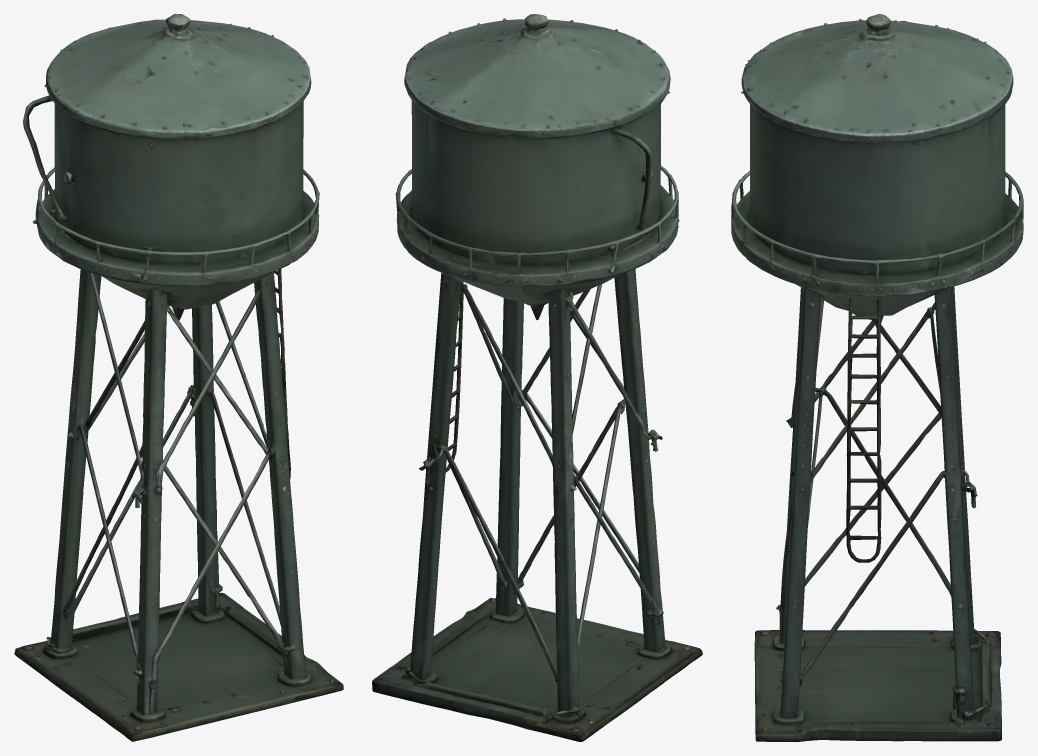
Rendered from water-tower.glb.
3 renders of one model, left to right at view 1: azimuth 30°, elevation 25°; view 2: azimuth 150°, elevation 25°; view 3: azimuth 270°, elevation 25°, orthographic. The views are drawn at different scales.
Size of the model in its own units: 0.4002 by 0.9772 by 0.3844.
Materials: 1 (1 with a texture image).
